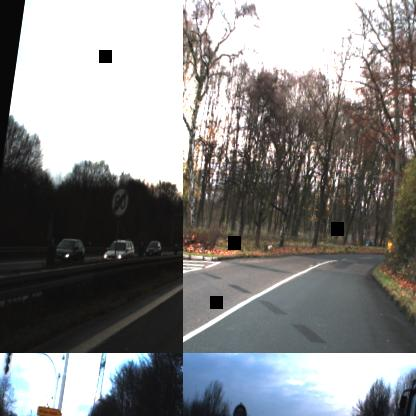restriction ends: (108, 185, 130, 218)
speed limit 120: (230, 402, 247, 416)
